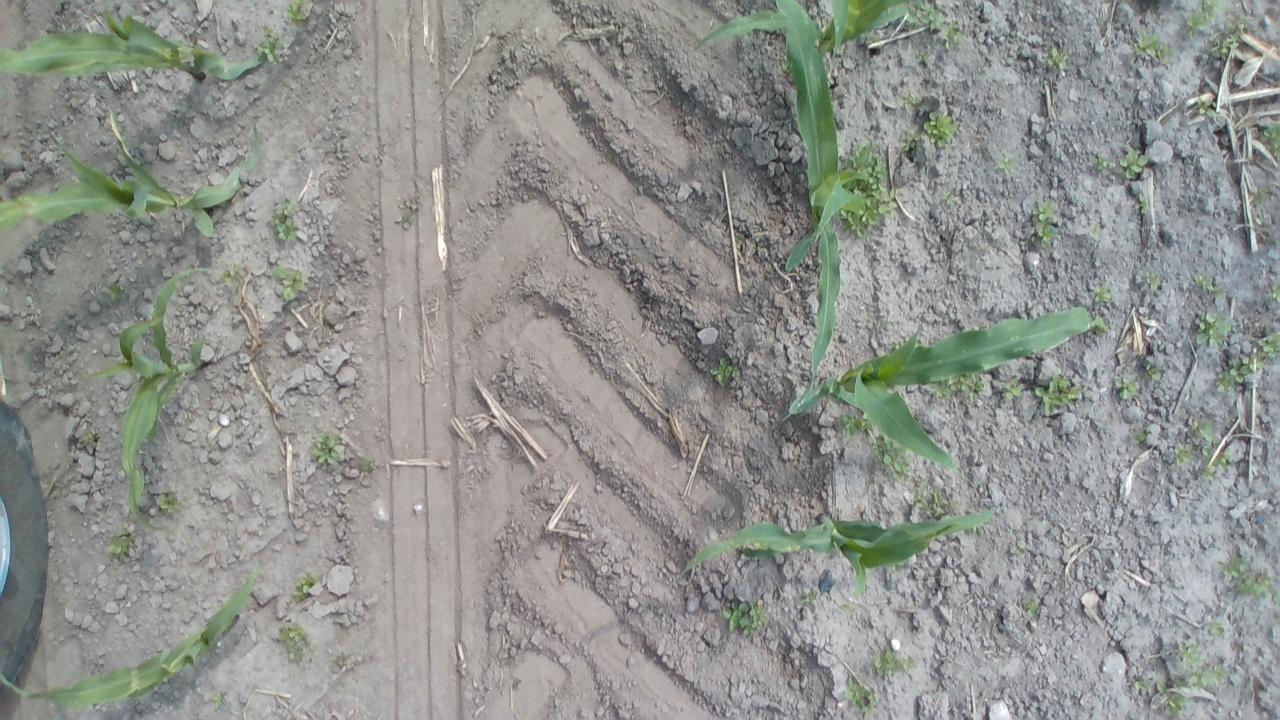Maize: (789, 312, 1102, 477), (772, 0, 876, 417), (0, 566, 266, 713), (1, 104, 270, 246), (673, 492, 1009, 601), (94, 259, 211, 536), (0, 2, 267, 89), (686, 1, 932, 63)
Weeds: (841, 137, 900, 238), (1146, 673, 1210, 717), (1218, 551, 1274, 601), (1215, 352, 1268, 397), (868, 434, 918, 481), (1172, 649, 1229, 690), (717, 597, 771, 640), (1033, 374, 1085, 418), (930, 369, 987, 404), (274, 620, 318, 665), (1193, 307, 1235, 351), (908, 484, 958, 519), (1131, 28, 1175, 67), (270, 197, 304, 245), (1030, 197, 1060, 250), (840, 678, 881, 716), (1184, 1, 1226, 36), (871, 647, 918, 678), (924, 112, 960, 150), (310, 430, 344, 470), (1198, 448, 1234, 484), (254, 28, 288, 66), (906, 0, 946, 32), (1114, 144, 1149, 180), (275, 265, 307, 303), (836, 409, 874, 441), (108, 524, 140, 560), (151, 486, 184, 520), (708, 356, 742, 388), (1208, 28, 1240, 60), (1190, 92, 1220, 124), (1190, 272, 1224, 300), (1127, 666, 1157, 696), (291, 572, 321, 602), (282, 1, 314, 29), (396, 196, 420, 233), (1112, 373, 1142, 402), (991, 150, 1018, 180), (329, 647, 356, 676), (900, 128, 926, 158), (1042, 46, 1073, 71), (998, 378, 1026, 404), (218, 262, 246, 288), (940, 22, 964, 52), (1258, 119, 1278, 154), (1091, 280, 1114, 310), (1187, 417, 1214, 442), (352, 451, 378, 476), (1138, 267, 1162, 294), (894, 90, 922, 112), (1019, 596, 1044, 620), (1256, 331, 1274, 363), (1171, 442, 1194, 467), (800, 586, 824, 609), (1140, 361, 1164, 384), (104, 280, 128, 302), (938, 188, 960, 212), (1206, 620, 1232, 640), (76, 429, 100, 450), (208, 690, 230, 712), (1086, 220, 1106, 244), (1133, 193, 1151, 219), (1092, 152, 1112, 173), (1249, 188, 1273, 205), (1264, 281, 1278, 306), (1130, 428, 1148, 446), (1009, 542, 1028, 559)
